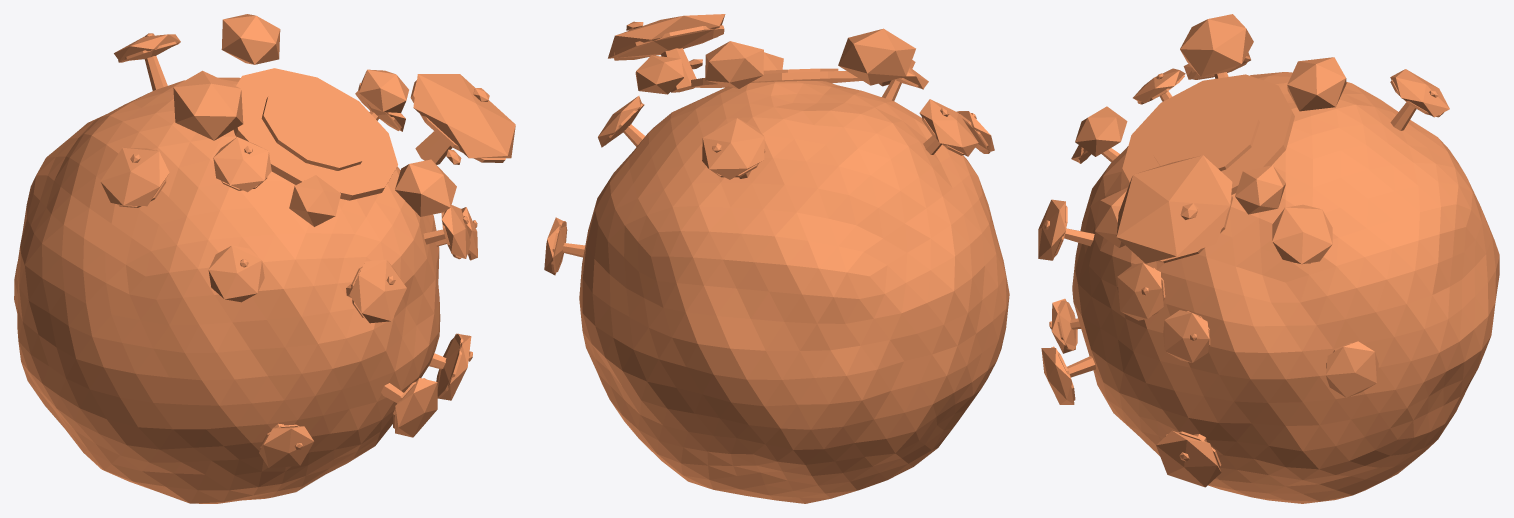
File: Mushroom_03.fbx
3 renders of one model, left to right at view 1: azimuth 30°, elevation 25°; view 2: azimuth 150°, elevation 25°; view 3: azimuth 270°, elevation 25°, orthographic.
Visible parts, largest first — view 1: Mushroom_03; view 2: Mushroom_03; view 3: Mushroom_03.
Boxes of the visible parts, x1,y1,x2,y2 form: Mushroom_03: (14, 14, 515, 503); Mushroom_03: (544, 14, 1009, 503); Mushroom_03: (1038, 14, 1499, 503).
Bounding box in the file's own units: 6.83 × 6.92 × 6.56.
